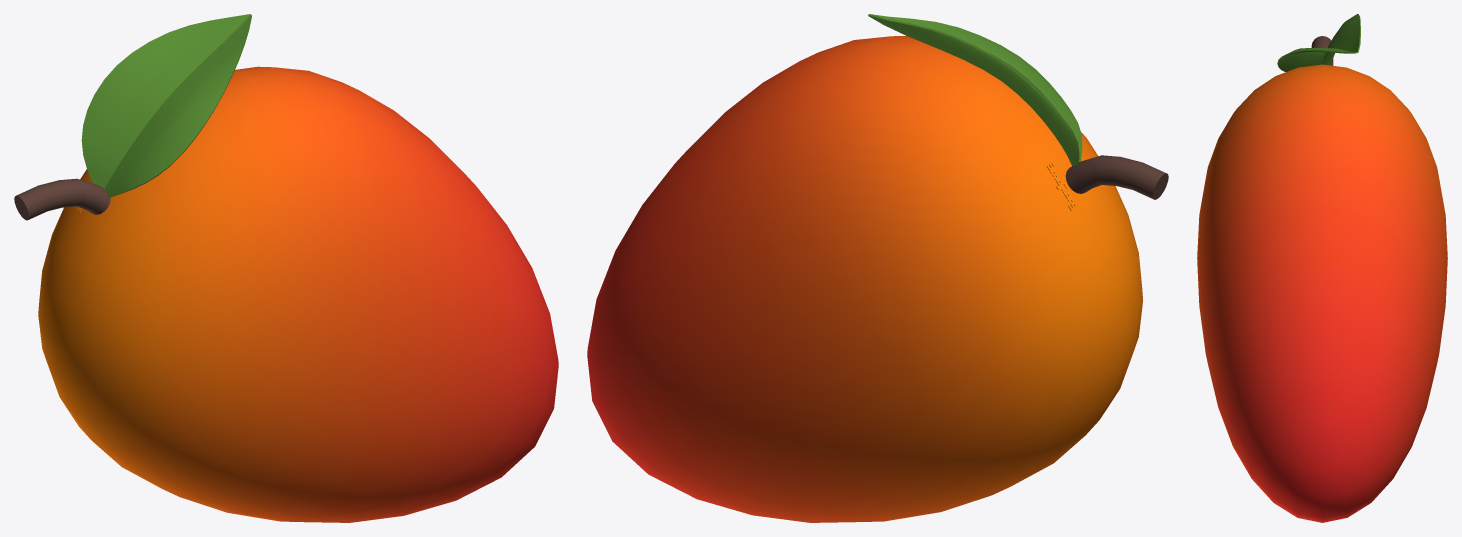
File: mango.glb
The picture shows the model from 3 angles, left to right: view 1: azimuth 30°, elevation 25°; view 2: azimuth 150°, elevation 25°; view 3: azimuth 270°, elevation 25°; orthographic projection. The views are drawn at different scales.
Parts seen in each view (by area): view 1: Cube.289; view 2: Cube.289; view 3: Cube.289.
Boxes of the visible parts, x1=… form: Cube.289: x1=14, y1=14, x2=558, y2=522; Cube.289: x1=587, y1=14, x2=1168, y2=522; Cube.289: x1=1197, y1=14, x2=1447, y2=522.
Size of the model in its own units: 2.19 by 2 by 1.13.
Materials: 1 (1 with a texture image).
